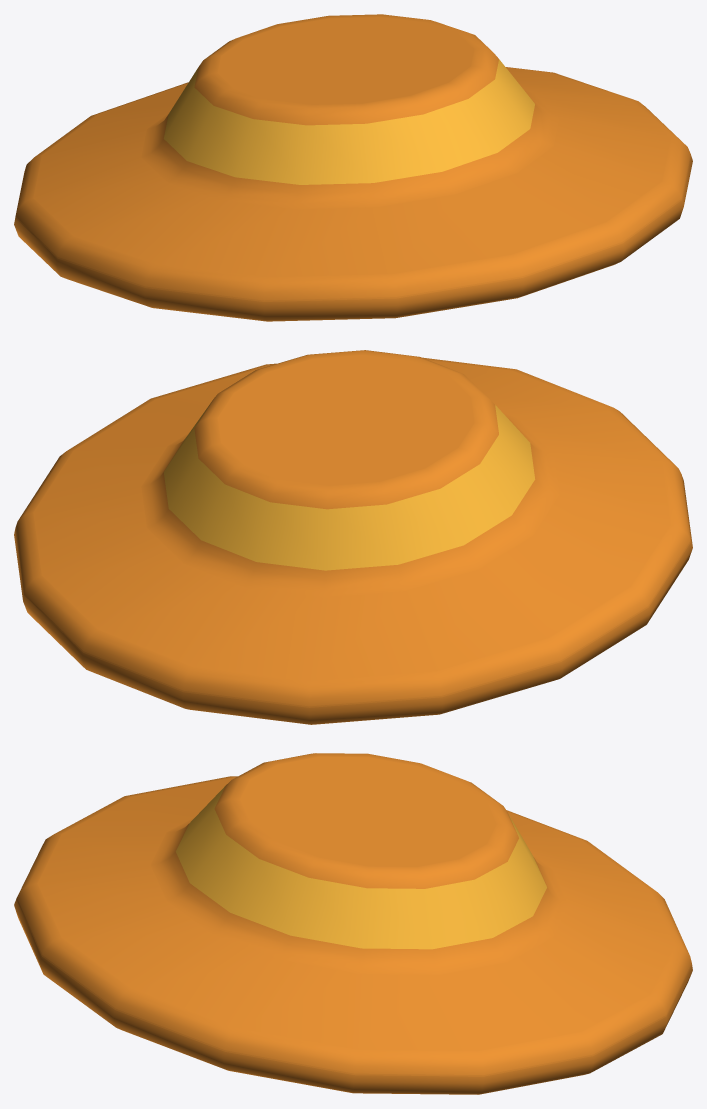
Rendered from Hat2.fbx.
3 renders of one model, top to bottom at view 1: azimuth 30°, elevation 25°; view 2: azimuth 150°, elevation 25°; view 3: azimuth 270°, elevation 25°, orthographic.
Parts seen in each view (by area): view 1: Cylinder.001; view 2: Cylinder.001; view 3: Cylinder.001.
Part boxes in pixels (box(x1,y1,x2,y2)): Cylinder.001: box(14, 14, 692, 321); Cylinder.001: box(14, 350, 692, 724); Cylinder.001: box(14, 753, 692, 1094).
Size of the model in its own units: 97.78 by 29.55 by 97.23.
